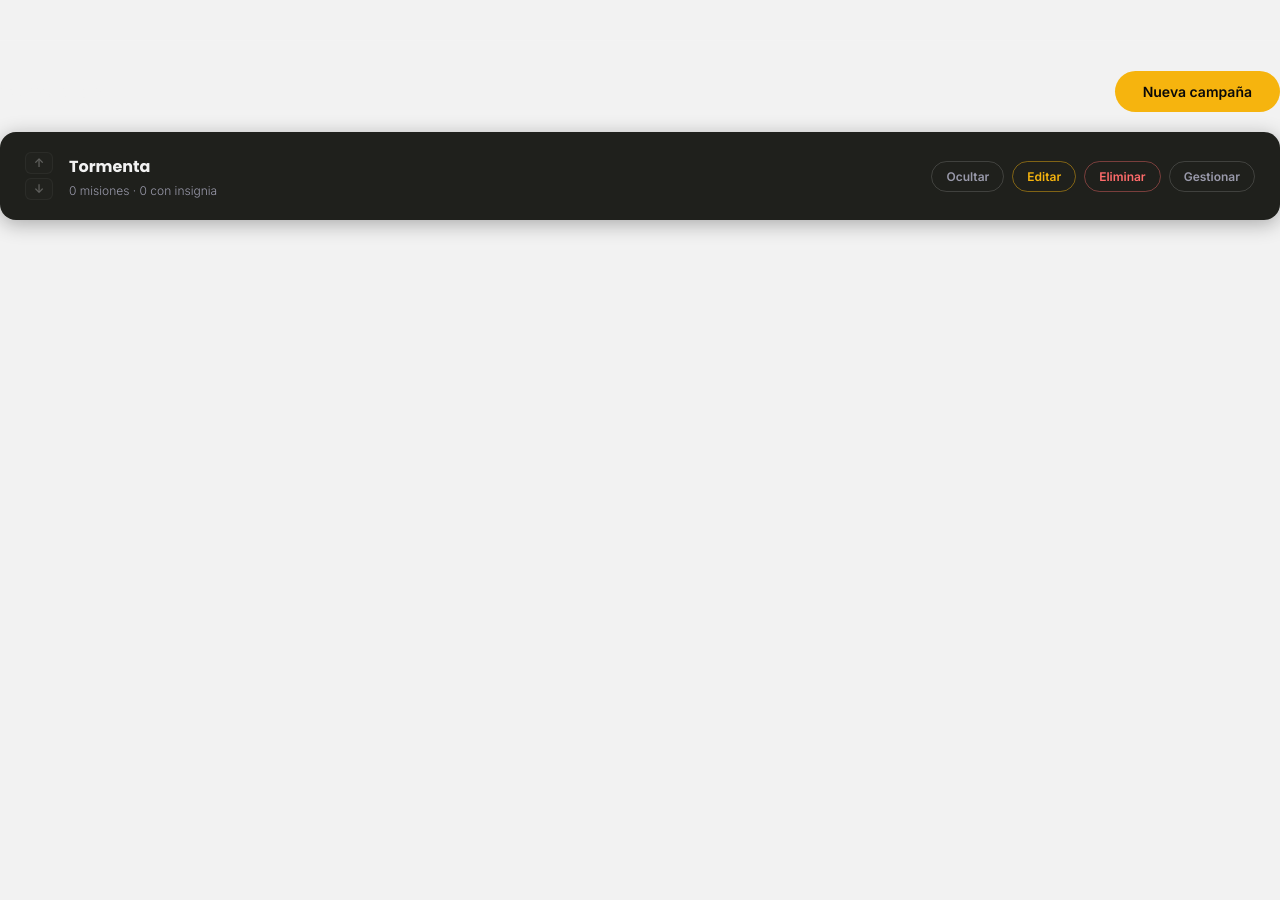
Test case: missions › requires a title
Expected: the heading "Tormenta" is shown, [69,155,150,178]
Click the button "Gestionar" at (1212, 176), box [1169,160,1255,192]
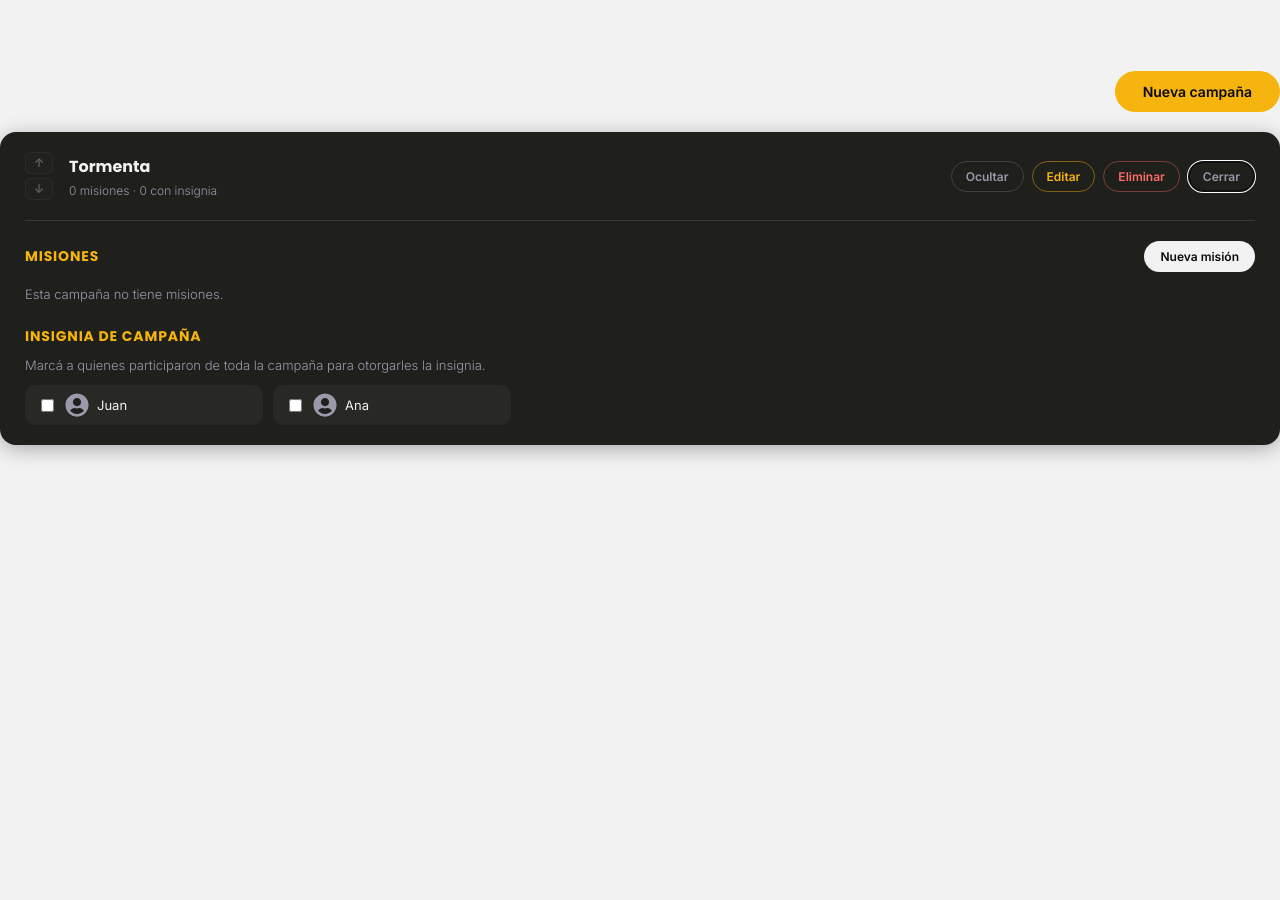
Click the button "Nueva misión" at (1200, 256), box [1144,241,1255,272]
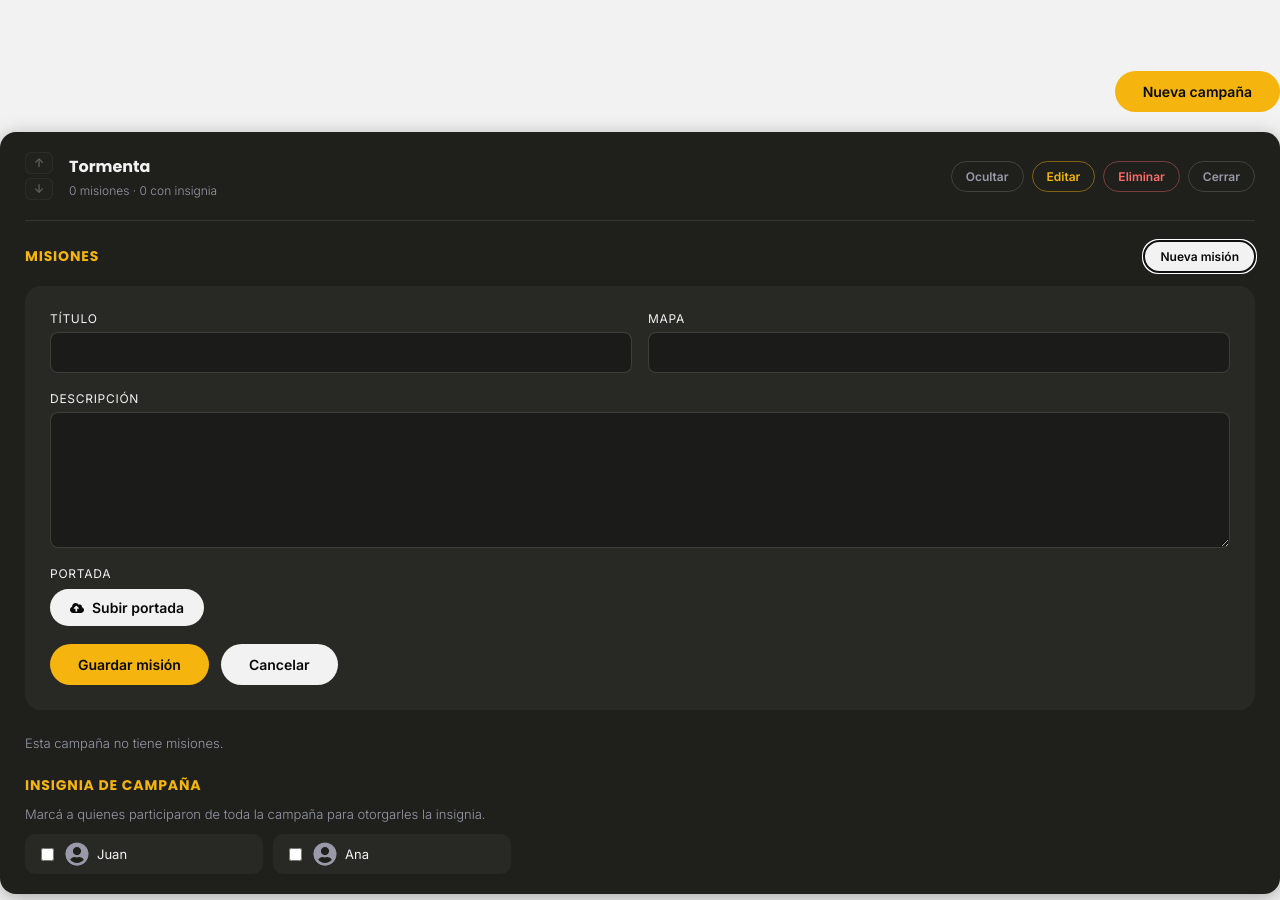
Click the button "Guardar misión" at (129, 664), box [50,644,209,685]
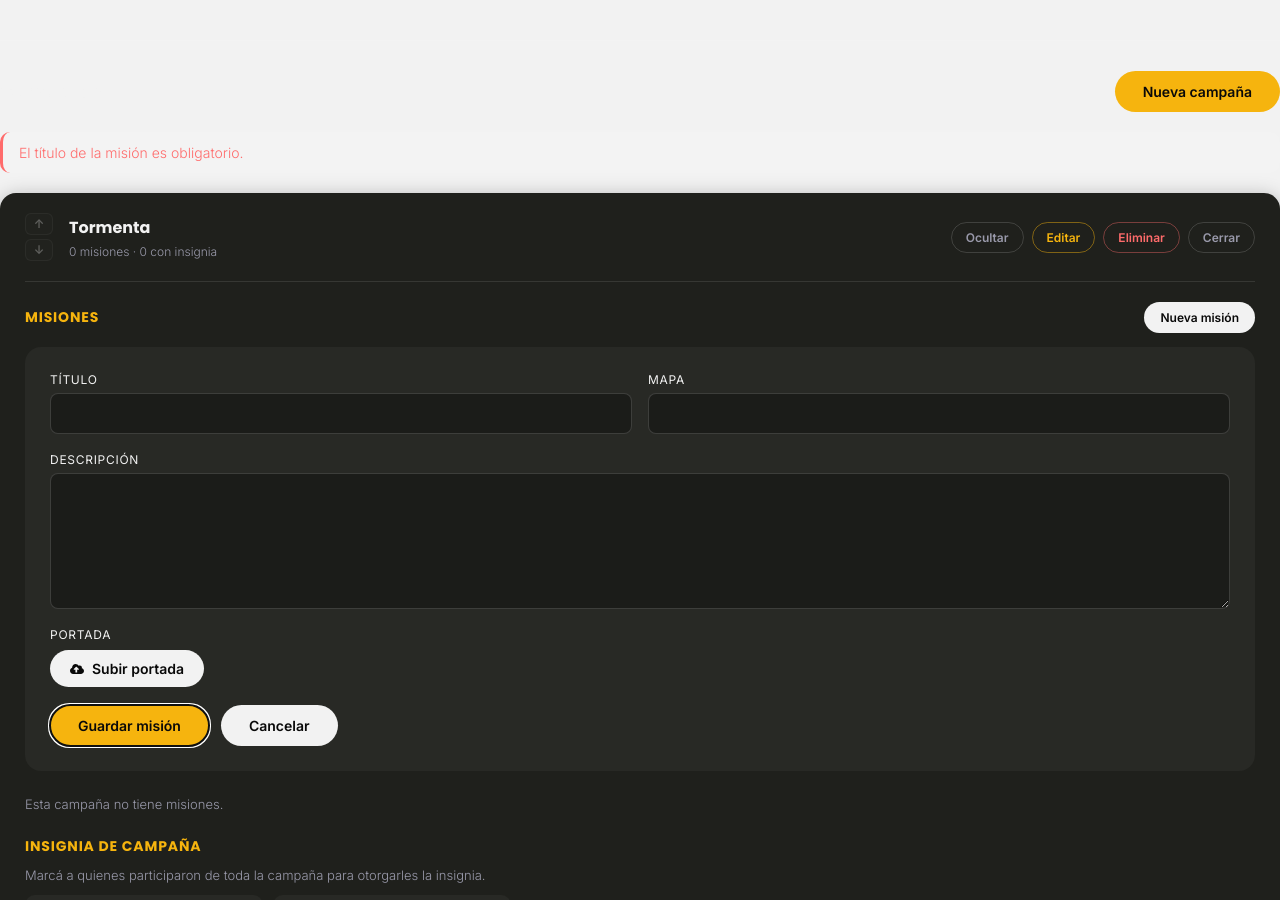
Now the message shows "título de la misión es obligatorio", box [19,144,243,161]
